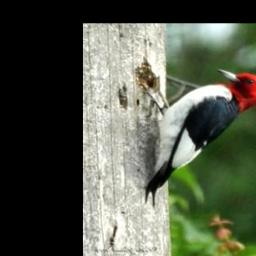Woodpecker: (146, 67, 256, 204)
